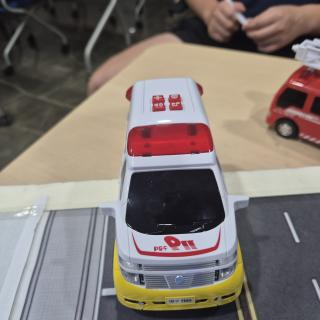Ambulance: (100, 78, 249, 310)
